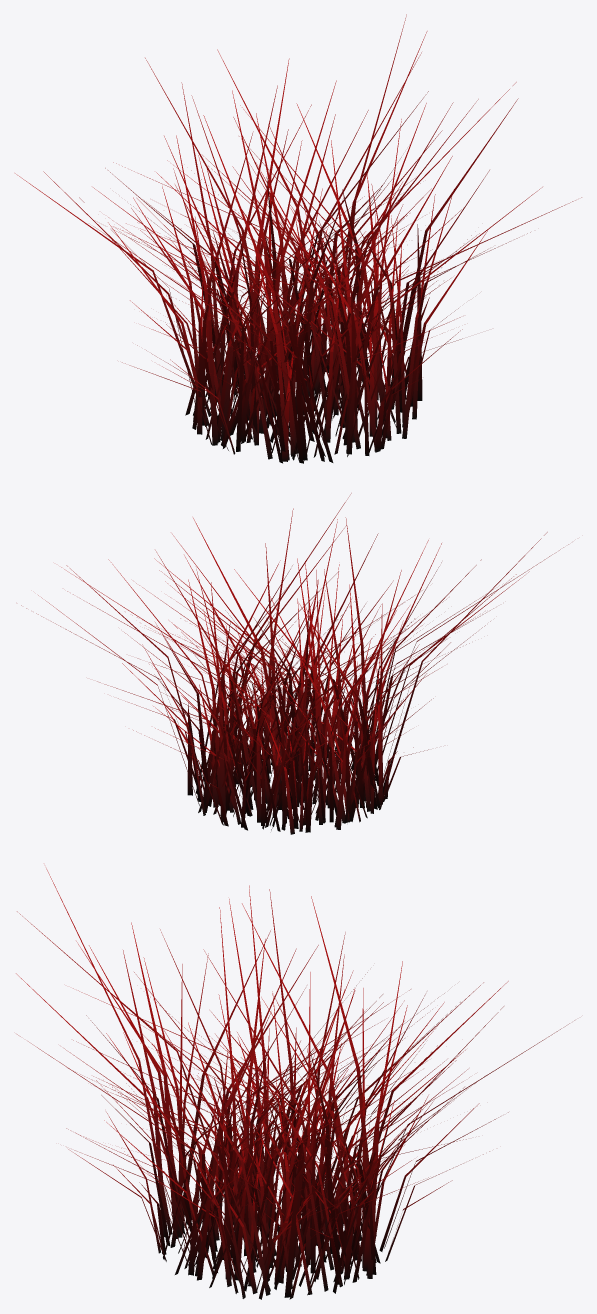
File: frost_fescue_v2.fbx
3 views of the same model, one above another, from view 1: azimuth 30°, elevation 25°; view 2: azimuth 150°, elevation 25°; view 3: azimuth 270°, elevation 25° (orthographic). The views are drawn at different scales.
Parts seen in each view (by area): view 1: frost_fescue_v2; view 2: frost_fescue_v2; view 3: frost_fescue_v2.
Part boxes in pixels (box(x1,y1,x2,y2)): frost_fescue_v2: box(15, 14, 581, 463); frost_fescue_v2: box(21, 493, 568, 834); frost_fescue_v2: box(16, 868, 574, 1299).
Bounding box in the file's own units: 46.94 × 26.25 × 49.07.
